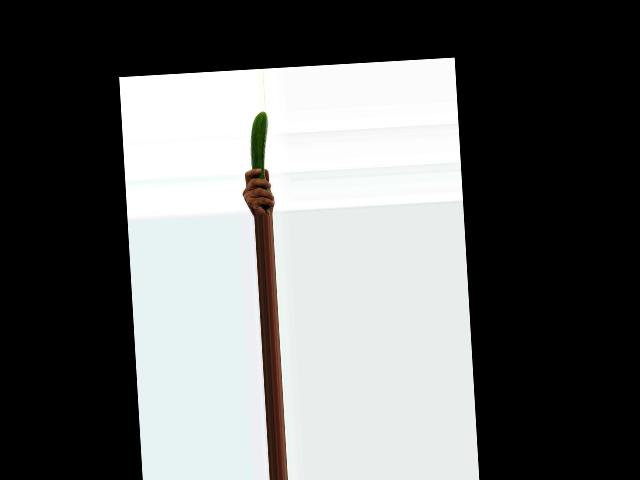cucumber: (248, 110, 273, 213)
